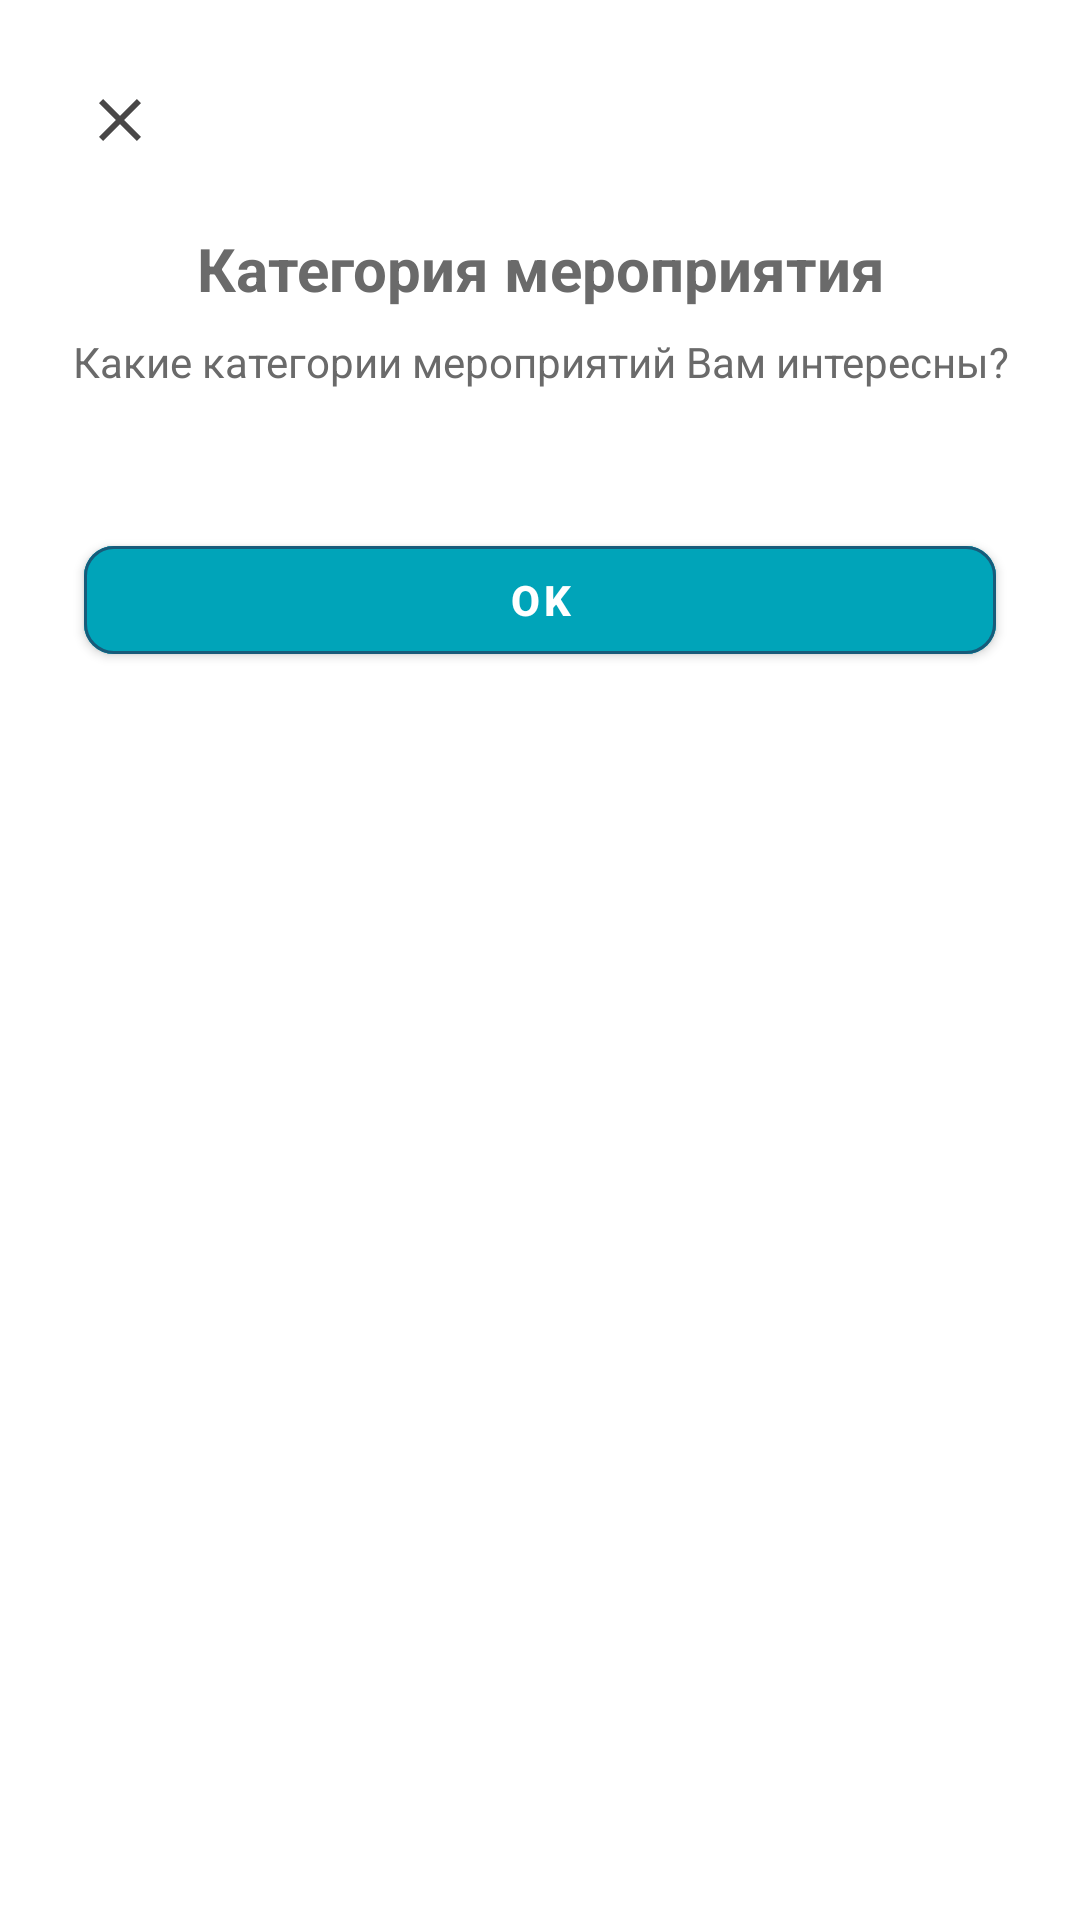

Where icons sit on this 1080x1920 app screen, as (x1,y1,x2,y2):
close: (99,99,141,141)
